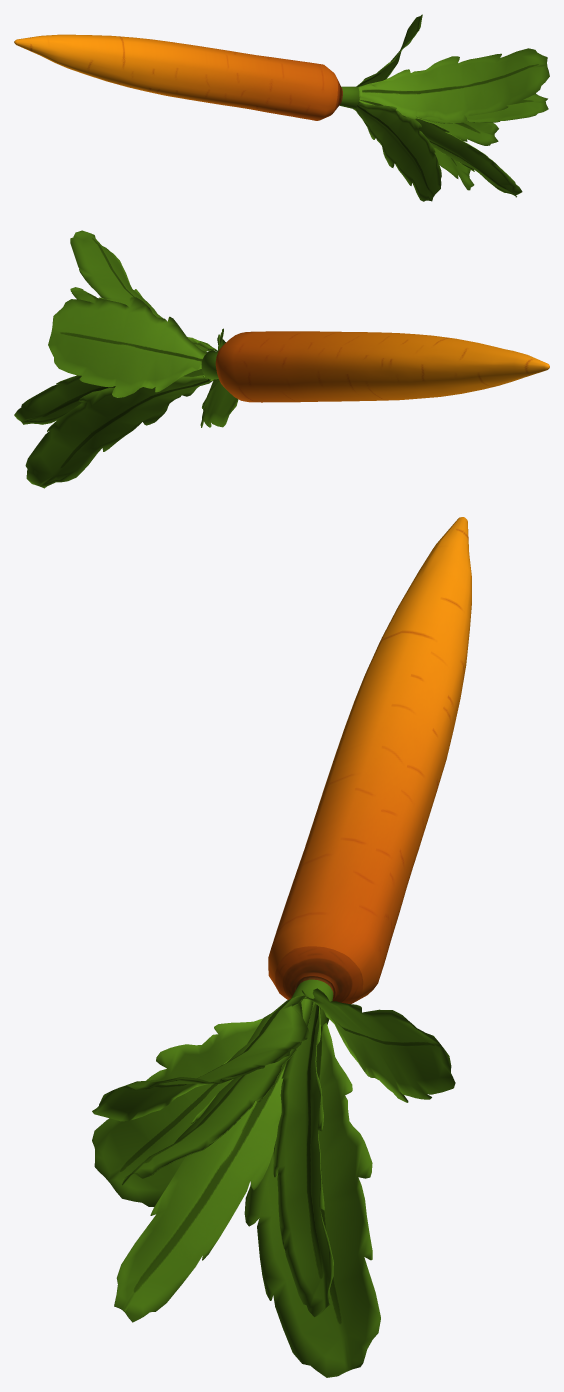
File: carrot_dynamic.obj
3 renders of one model, top to bottom at view 1: azimuth 30°, elevation 25°; view 2: azimuth 150°, elevation 25°; view 3: azimuth 270°, elevation 25°, orthographic. The views are drawn at different scales.
Size of the model in its own units: 0.7639 by 0.3598 by 0.2771.
Materials: 3 (3 with a texture image).
